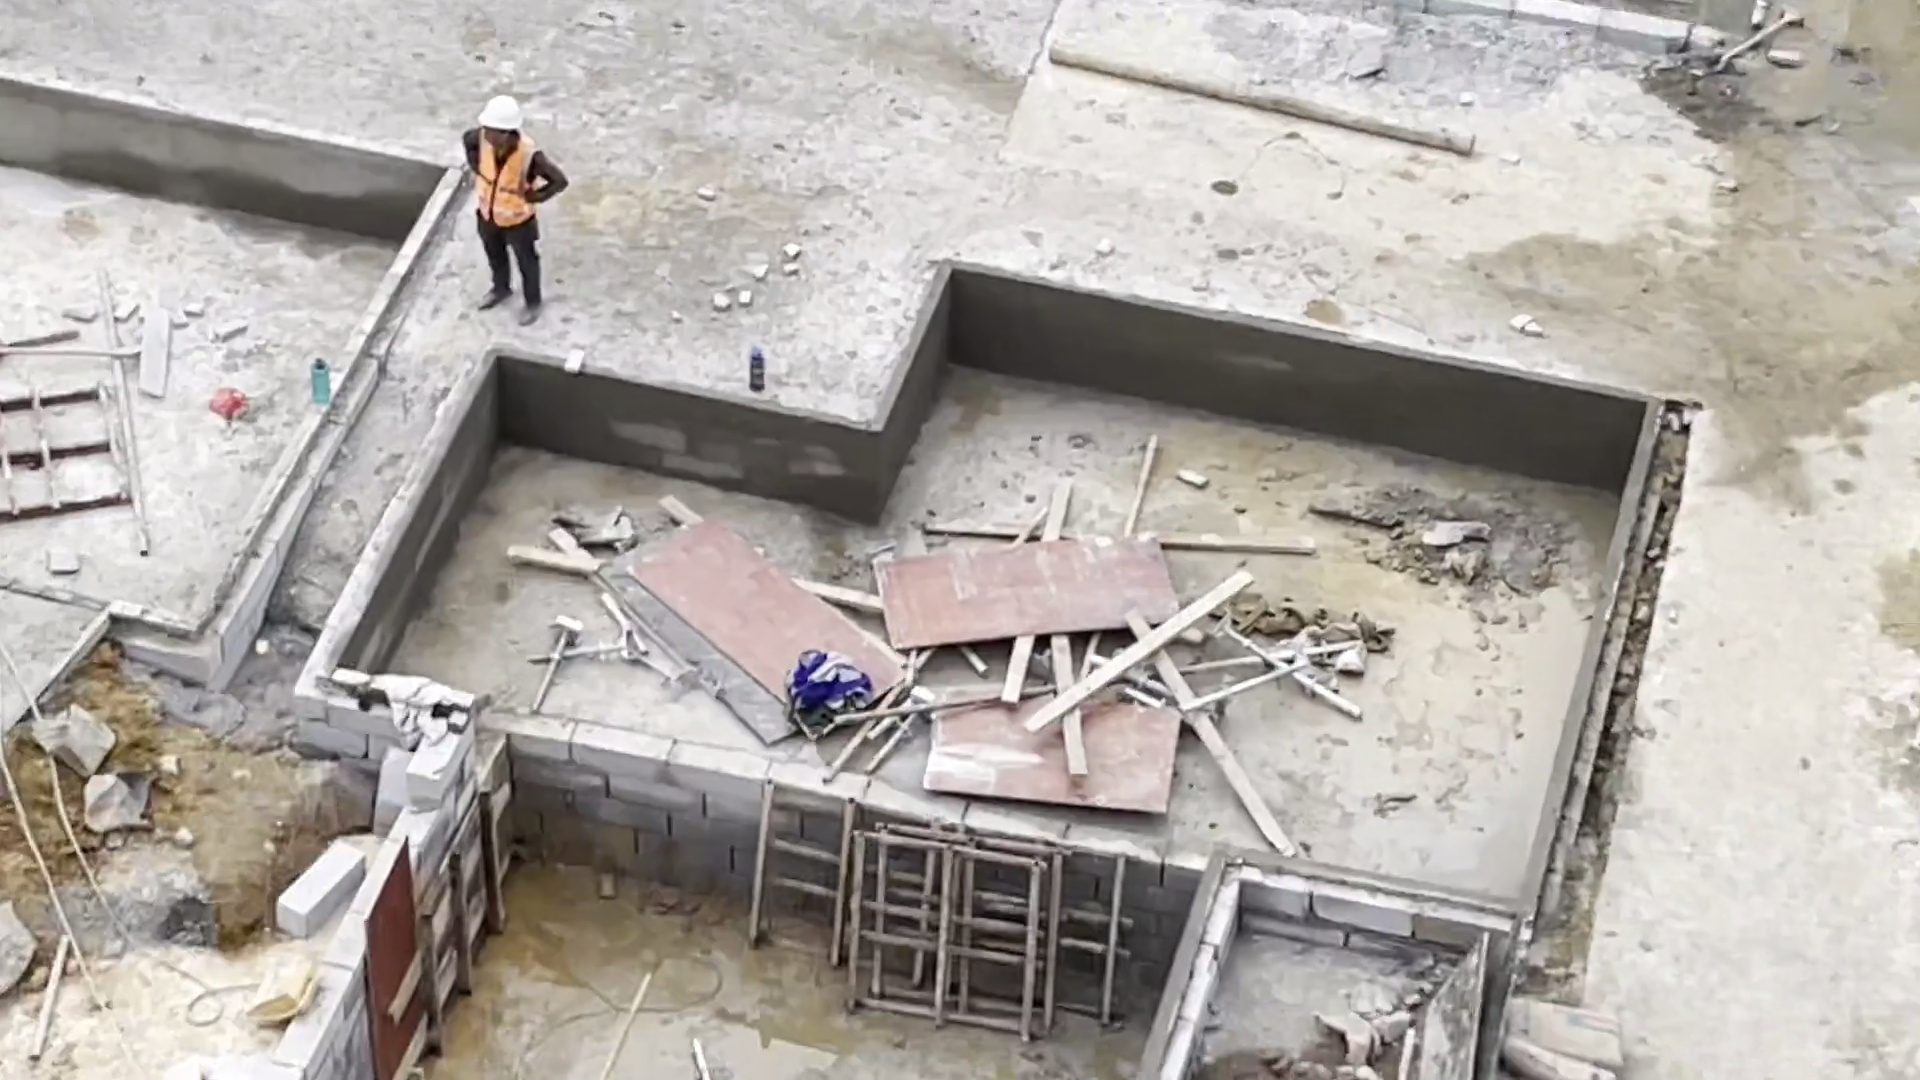helmet: (479, 93, 527, 130)
person: (449, 96, 571, 328)
vest: (466, 141, 540, 226)
